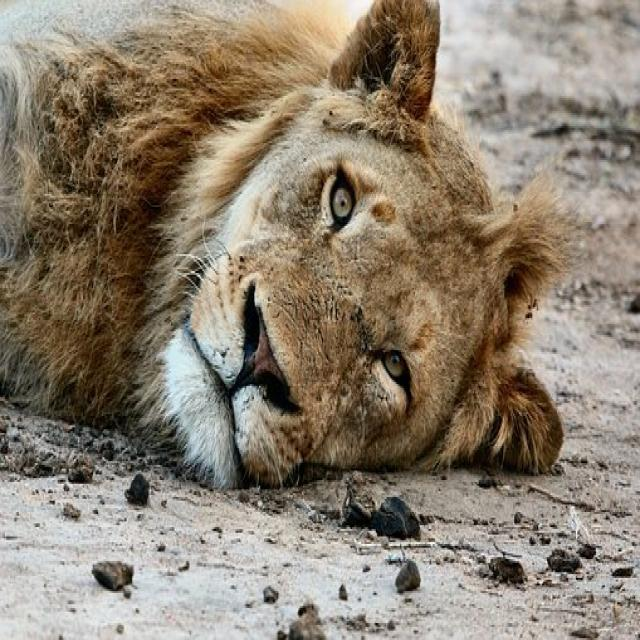Lion: (2, 0, 569, 483)
